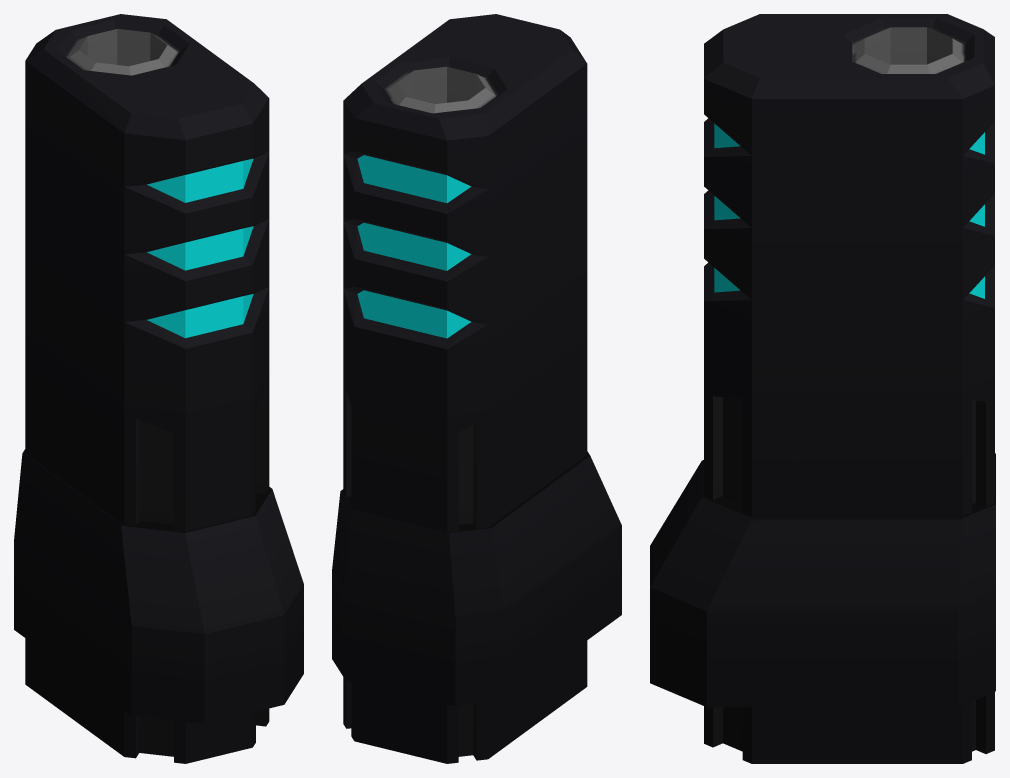
The model's file is sentry_turret_sniper.glb.
3 views of the same model, side by side, from view 1: azimuth 30°, elevation 25°; view 2: azimuth 150°, elevation 25°; view 3: azimuth 270°, elevation 25° (orthographic). The views are drawn at different scales.
Parts seen in each view (by area): view 1: MK_3_Sniper_Cannon_Weapon, MK_3_Sniper_Cannon_Base; view 2: MK_3_Sniper_Cannon_Weapon, MK_3_Sniper_Cannon_Base; view 3: MK_3_Sniper_Cannon_Weapon, MK_3_Sniper_Cannon_Base.
Boxes of the visible parts, left/top/right/bottom form: MK_3_Sniper_Cannon_Weapon: left=25, top=14, right=269, bottom=763; MK_3_Sniper_Cannon_Base: left=14, top=449, right=303, bottom=724; MK_3_Sniper_Cannon_Weapon: left=343, top=14, right=587, bottom=763; MK_3_Sniper_Cannon_Base: left=332, top=451, right=621, bottom=706; MK_3_Sniper_Cannon_Weapon: left=704, top=14, right=994, bottom=763; MK_3_Sniper_Cannon_Base: left=650, top=453, right=995, bottom=707.
Size of the model in its own units: 0.3107 by 1.1 by 0.507.
Materials: 1 (1 with a texture image).
